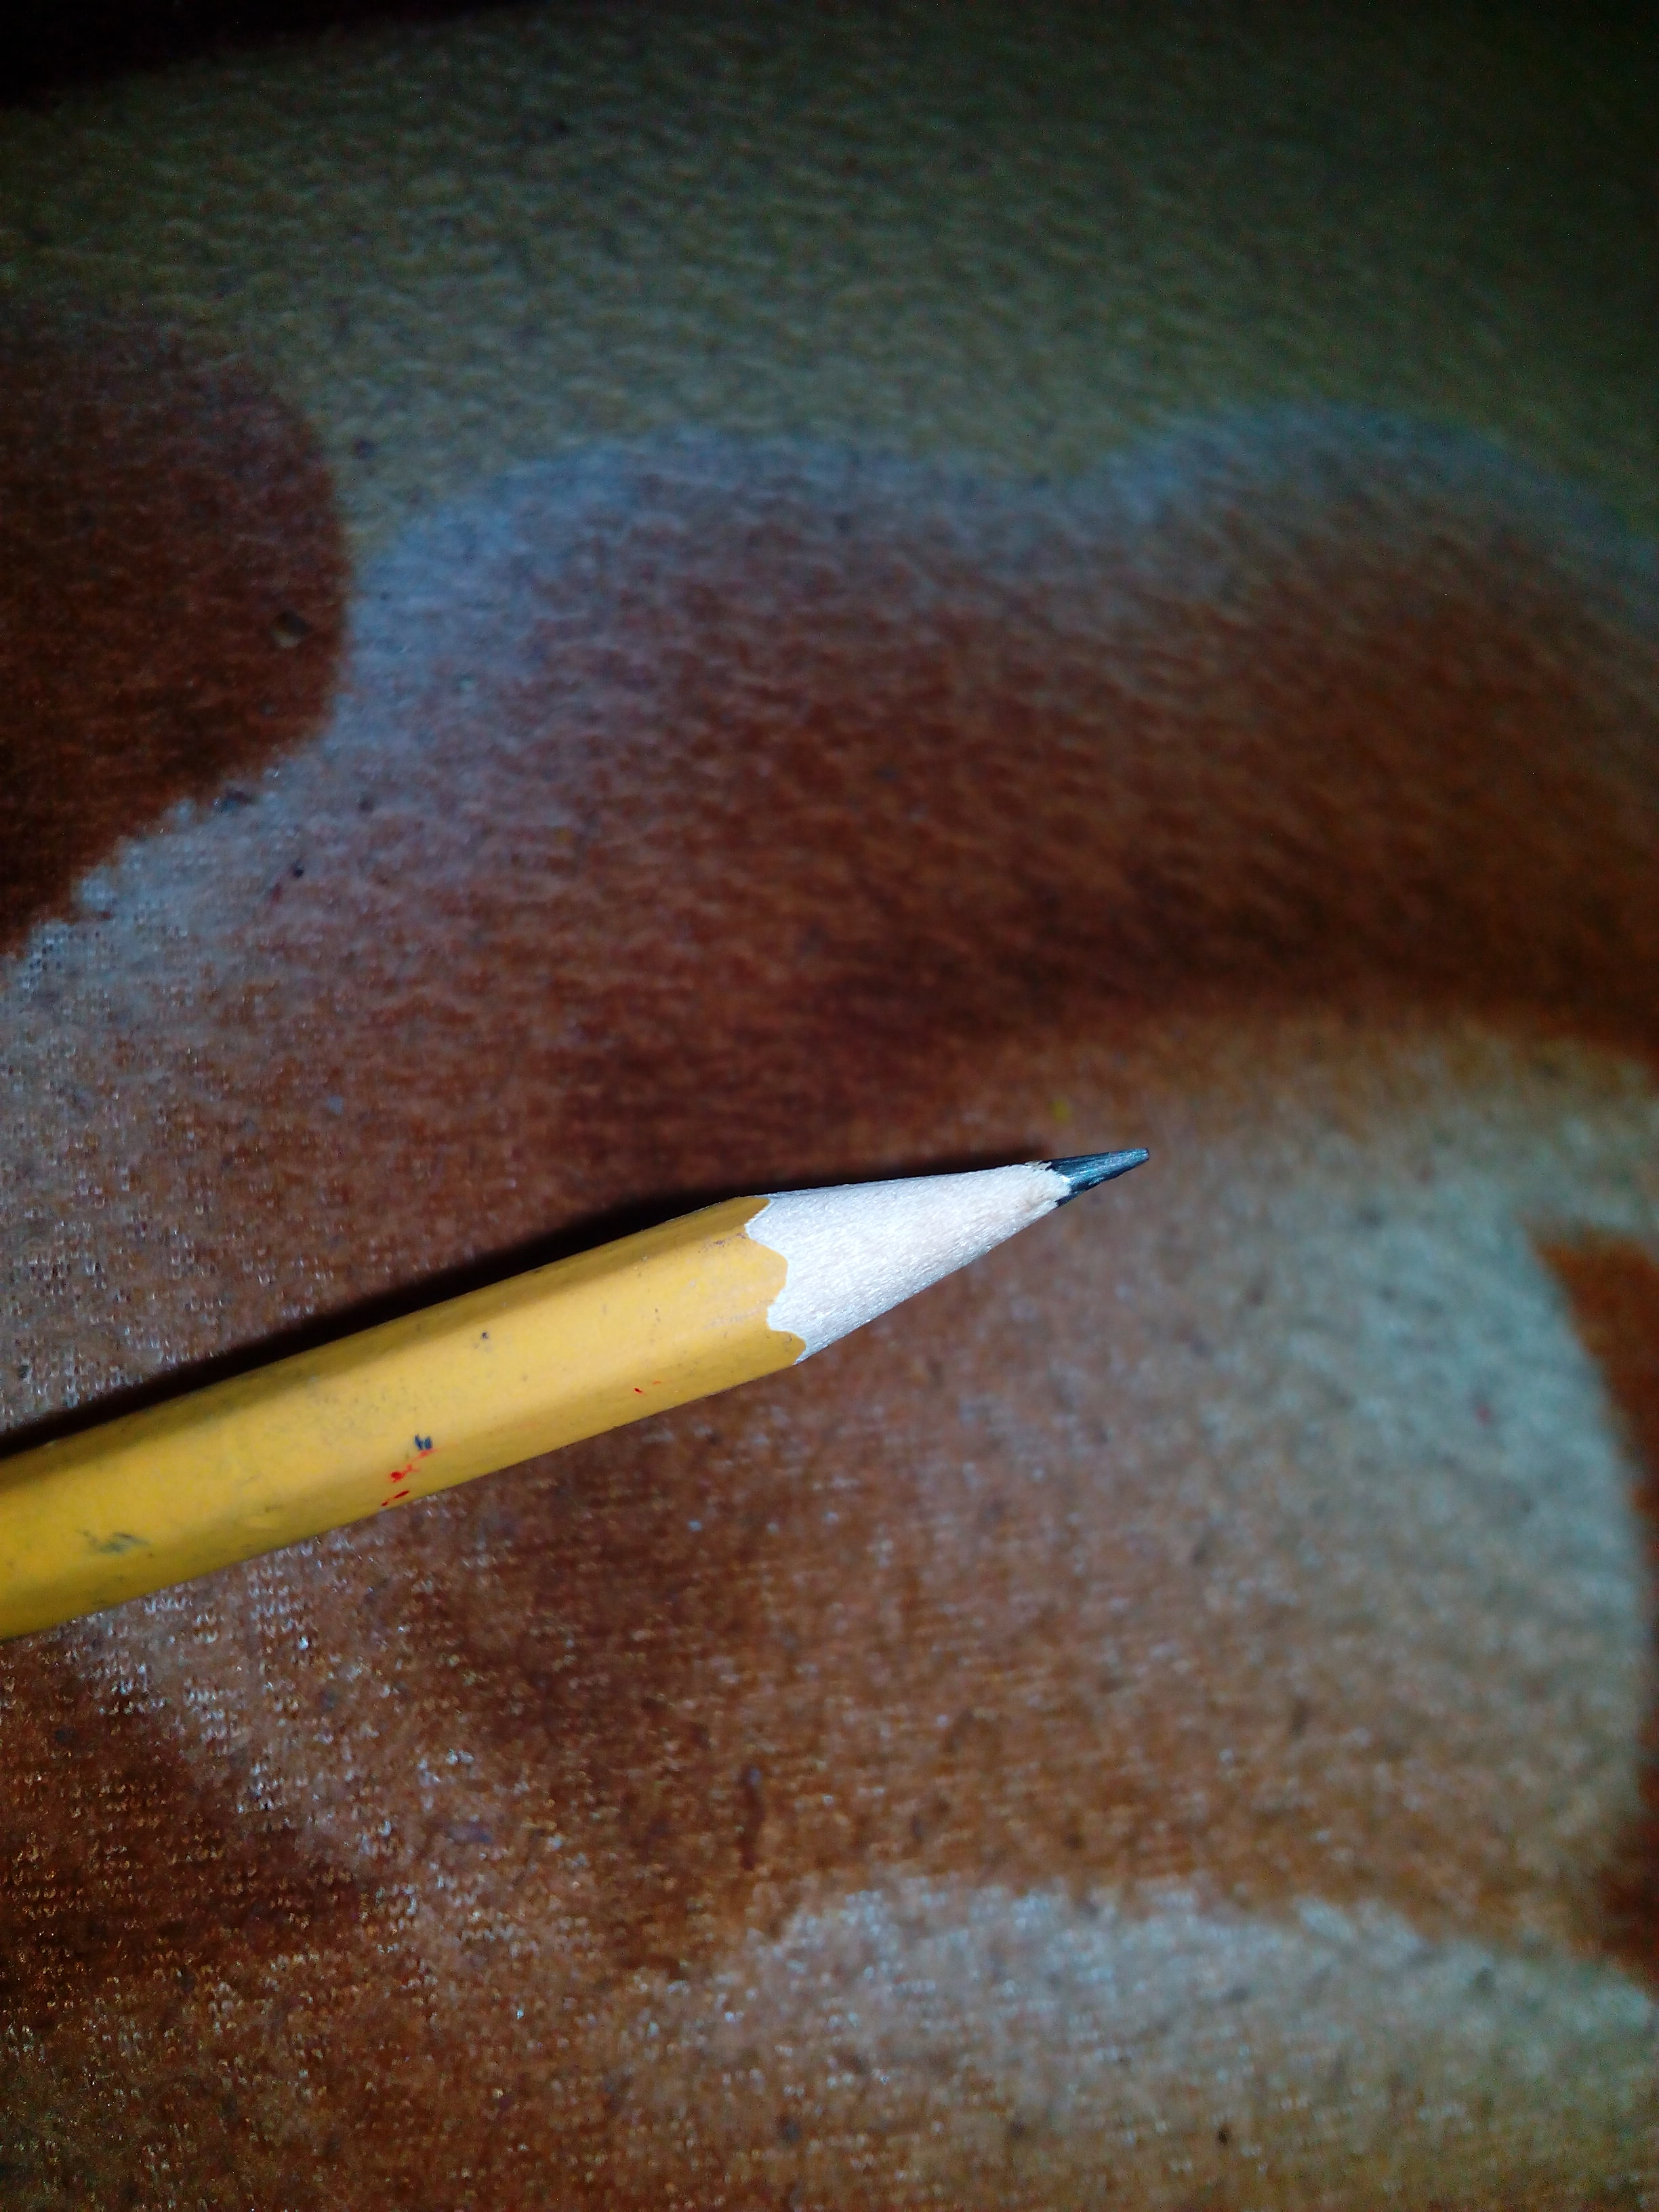pen_tip: (683, 963, 1236, 1484)
